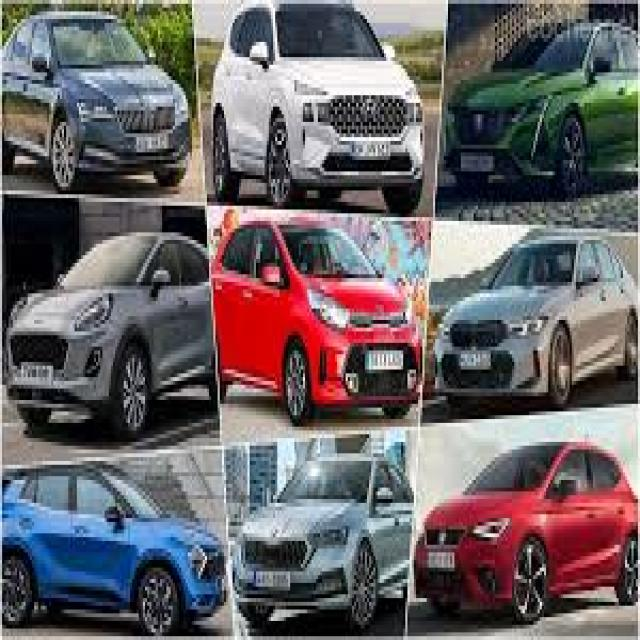Cars: (205, 0, 424, 206), (424, 424, 634, 626), (8, 234, 196, 449), (216, 223, 424, 411), (5, 473, 227, 640), (3, 19, 201, 201), (454, 24, 640, 212), (434, 234, 625, 384), (241, 465, 410, 615)
